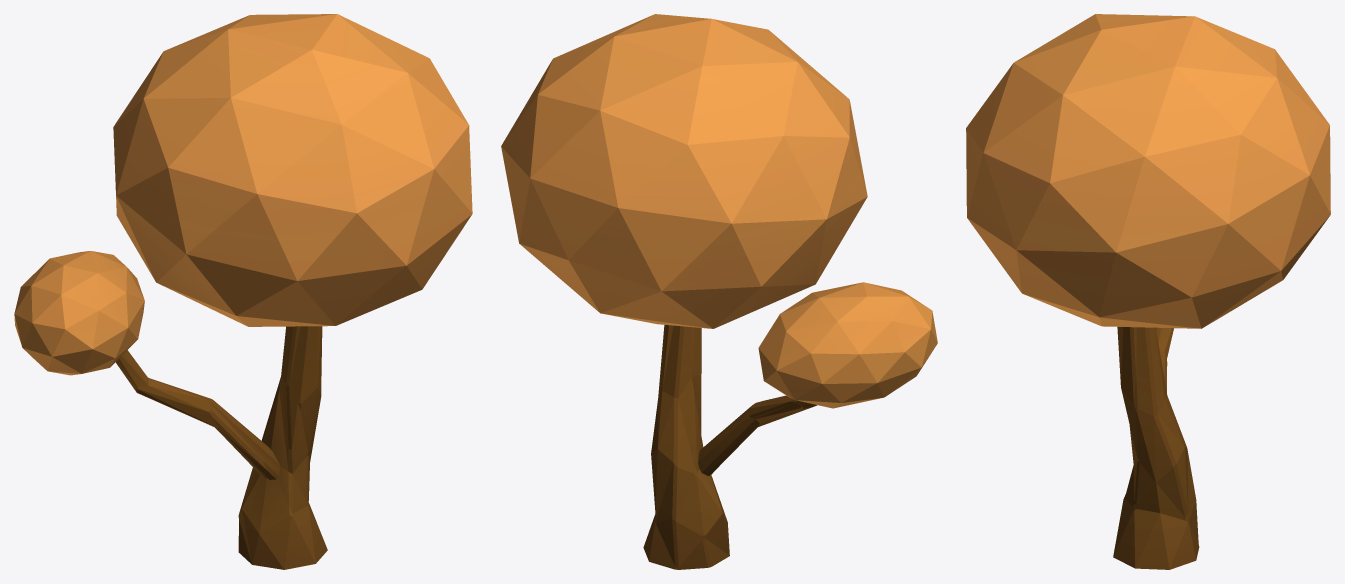
File: tree_round.glb
The picture shows the model from 3 angles, left to right: view 1: azimuth 30°, elevation 25°; view 2: azimuth 150°, elevation 25°; view 3: azimuth 270°, elevation 25°; orthographic projection.
Visible parts, largest first — view 1: Poplar Tree_1_AA; view 2: Poplar Tree_1_AA; view 3: Poplar Tree_1_AA.
Boxes of the visible parts, bbox=[...] form: Poplar Tree_1_AA: bbox=[14, 14, 472, 569]; Poplar Tree_1_AA: bbox=[501, 14, 937, 569]; Poplar Tree_1_AA: bbox=[966, 14, 1330, 569].
Bounding box in the file's own units: 2.96 × 3.53 × 2.23.
1 material, 1 textured.
